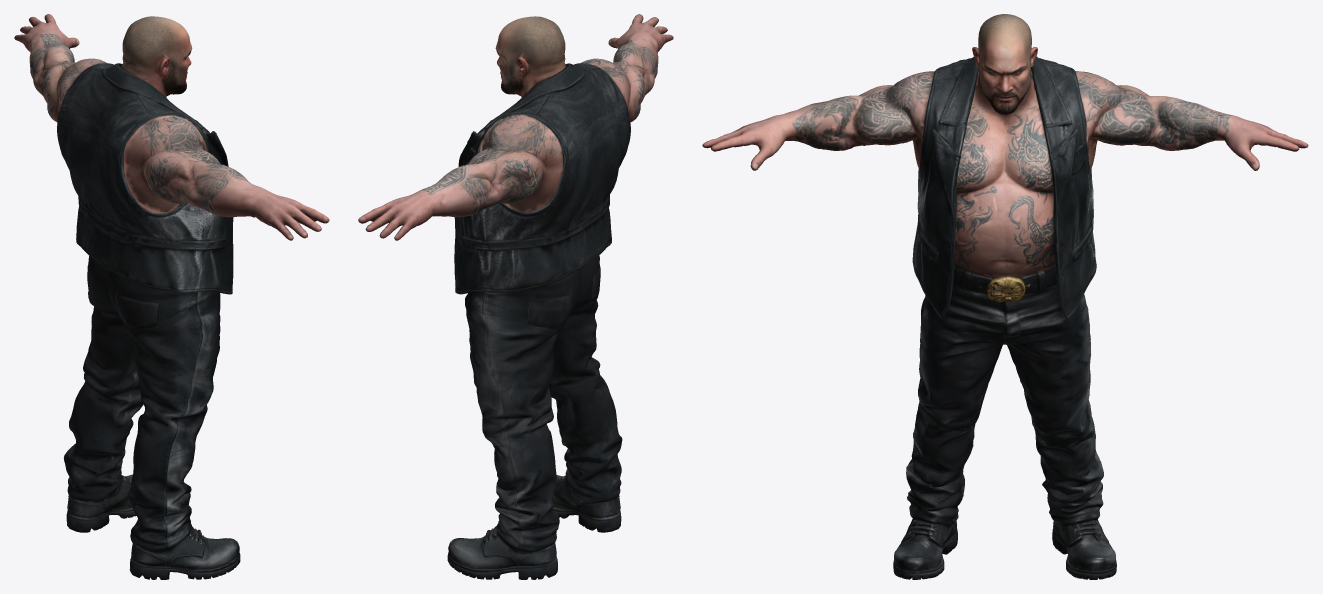
File: master.glb
3 views of the same model, side by side, from view 1: azimuth 30°, elevation 25°; view 2: azimuth 150°, elevation 25°; view 3: azimuth 270°, elevation 25° (orthographic). The views are drawn at different scales.
Visible parts, largest first — view 1: w_tp_incense_master; view 2: w_tp_incense_master; view 3: w_tp_incense_master.
Part boxes in pixels (left/top/right/bottom): w_tp_incense_master: left=14, top=14, right=329, bottom=579; w_tp_incense_master: left=358, top=14, right=673, bottom=579; w_tp_incense_master: left=702, top=14, right=1308, bottom=579.
Bounding box in the file's own units: 0.48 × 1.85 × 1.86.
Materials: 1 (1 with a texture image).
